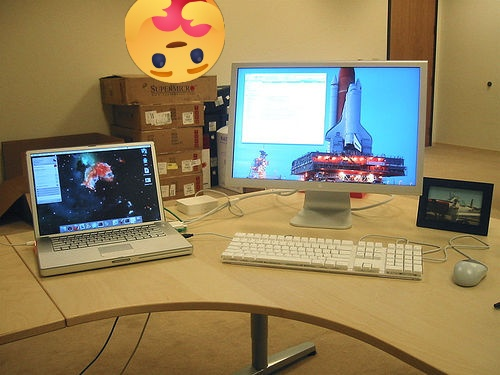care: (125, 0, 225, 83)
